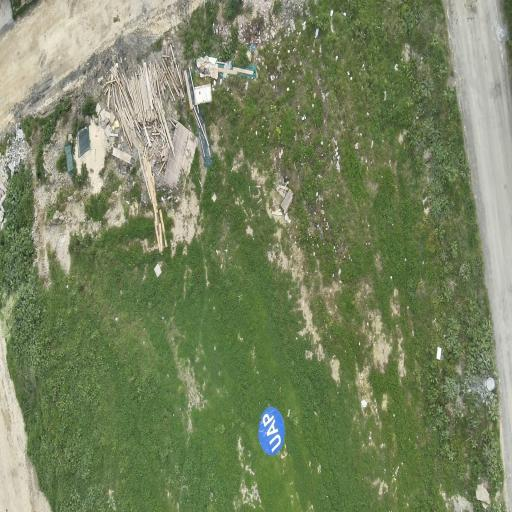UAP: (259, 407, 284, 455)
